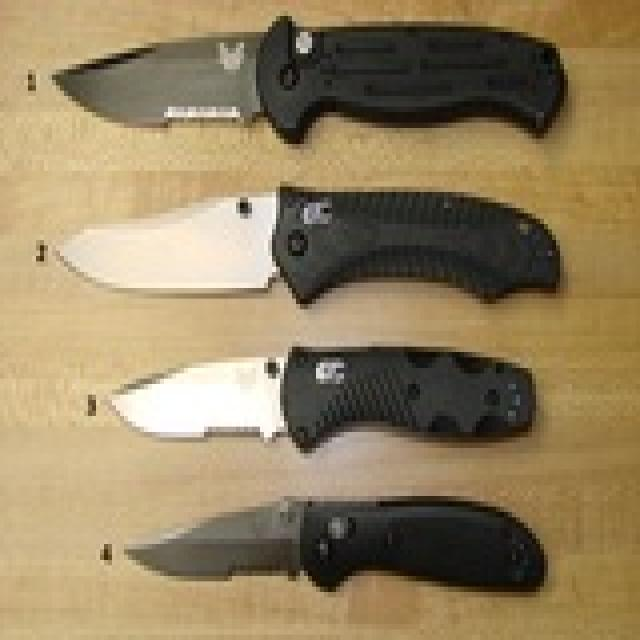Knife: (55, 5, 570, 612)
